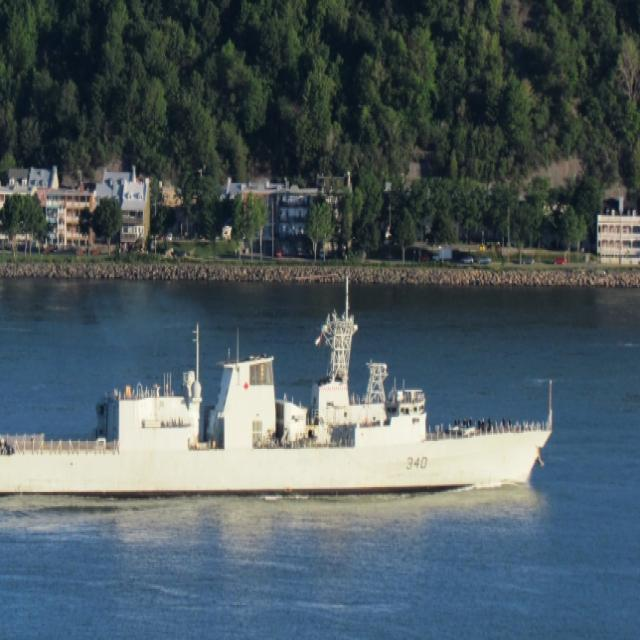Fragata: (1, 231, 563, 507)
